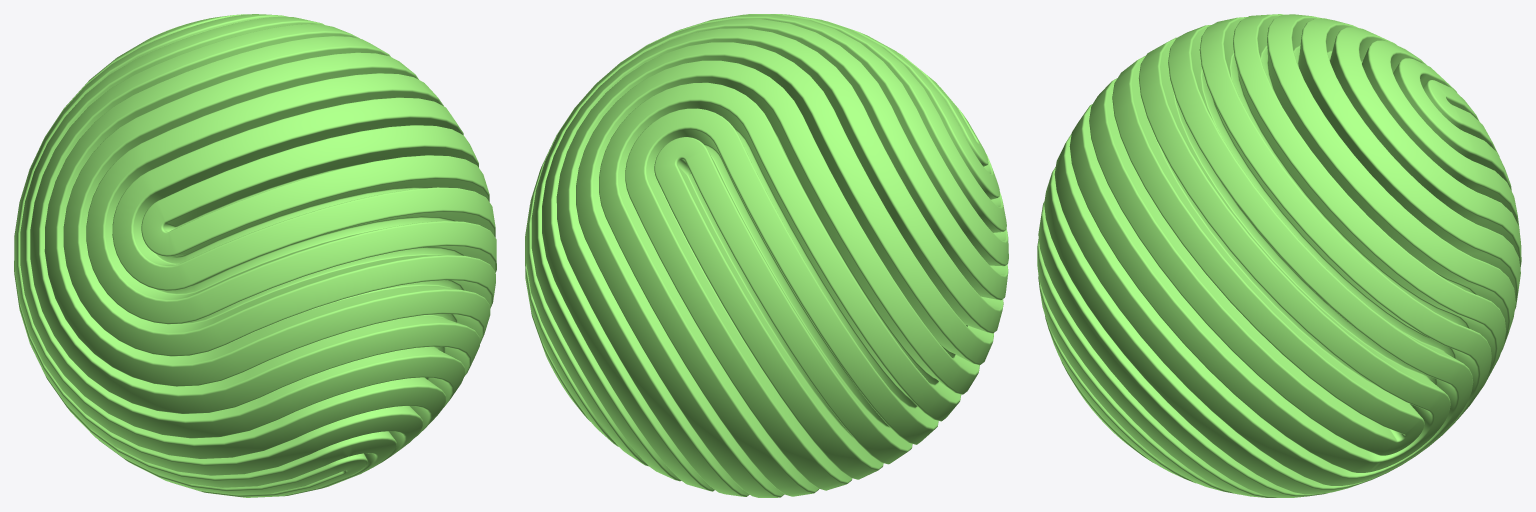
File: assssssssssssssssssssss.fbx
The picture shows the model from 3 angles, left to right: view 1: azimuth 30°, elevation 25°; view 2: azimuth 150°, elevation 25°; view 3: azimuth 270°, elevation 25°; orthographic projection.
Parts seen in each view (by area): view 1: Sphere.003; view 2: Sphere.003; view 3: Sphere.003.
Part boxes in pixels (x1,y1,x2,y2): Sphere.003: (14,14,496,497); Sphere.003: (525,14,1008,497); Sphere.003: (1037,14,1521,497).
Bounding box in the file's own units: 200 × 200 × 200.
